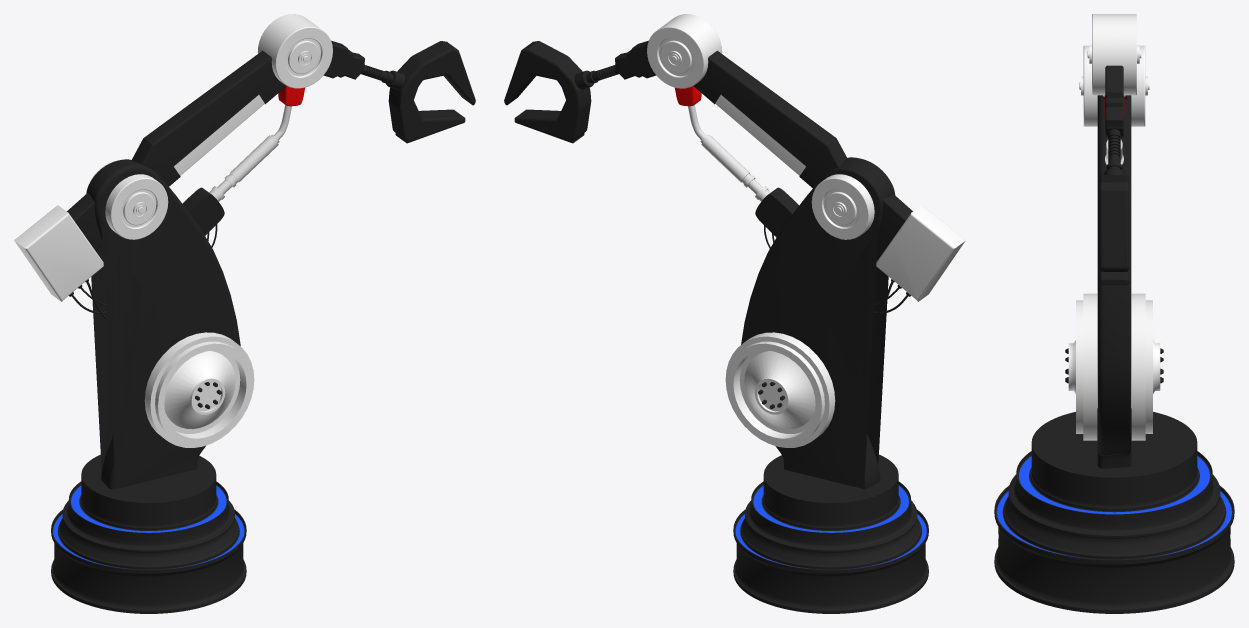
The model's file is Robotic Arm.fbx.
3 views of the same model, side by side, from view 1: azimuth 30°, elevation 25°; view 2: azimuth 150°, elevation 25°; view 3: azimuth 270°, elevation 25° (orthographic). The views are drawn at different scales.
Visible parts, largest first — view 1: Stand_2, Base, SCEW, Stand_1, Extrude_8, Extrude_3, Cylinder_1, Cylinder, Extrude_2, Sweep_3, Extrude, Extrude_7; view 2: Stand_2, Base, SCEW, Stand_1, Extrude_8, Extrude_3, Cylinder_1, Cylinder, Extrude_2, Sweep_3, Extrude, Extrude_7; view 3: Base, Stand_2, SCEW, Extrude_8, Cylinder_1, Cylinder, Extrude_7, Sweep_7.
Part boxes in pixels (x1,y1,x2,y2): Stand_2: [86, 159, 240, 489]; Base: [51, 455, 246, 613]; SCEW: [144, 332, 254, 447]; Stand_1: [131, 50, 286, 186]; Extrude_8: [388, 41, 475, 143]; Extrude_3: [14, 205, 103, 301]; Cylinder_1: [257, 14, 332, 88]; Cylinder: [90, 160, 168, 239]; Extrude_2: [182, 187, 224, 235]; Sweep_3: [209, 135, 278, 201]; Extrude: [67, 193, 102, 250]; Extrude_7: [323, 40, 364, 79]; Stand_2: [741, 157, 895, 489]; Base: [733, 454, 928, 613]; SCEW: [725, 332, 835, 447]; Stand_1: [693, 50, 846, 187]; Extrude_8: [504, 41, 591, 143]; Extrude_3: [876, 205, 965, 301]; Cylinder_1: [647, 14, 722, 88]; Cylinder: [811, 174, 874, 239]; Extrude_2: [755, 187, 798, 237]; Sweep_3: [701, 135, 770, 201]; Extrude: [877, 195, 912, 250]; Extrude_7: [615, 40, 656, 79]; Base: [994, 408, 1234, 613]; Stand_2: [1097, 95, 1131, 468]; SCEW: [1065, 293, 1163, 440]; Extrude_8: [1099, 175, 1129, 284]; Cylinder_1: [1087, 14, 1141, 95]; Cylinder: [1079, 45, 1149, 126]; Extrude_7: [1105, 65, 1123, 137]; Sweep_7: [1104, 129, 1124, 174].
Bounding box in the file's own units: 515 × 563 × 193.
